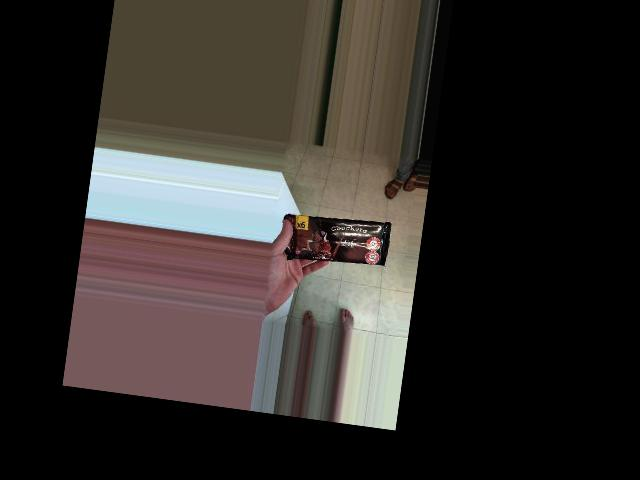chocolate: (331, 167, 403, 284)
